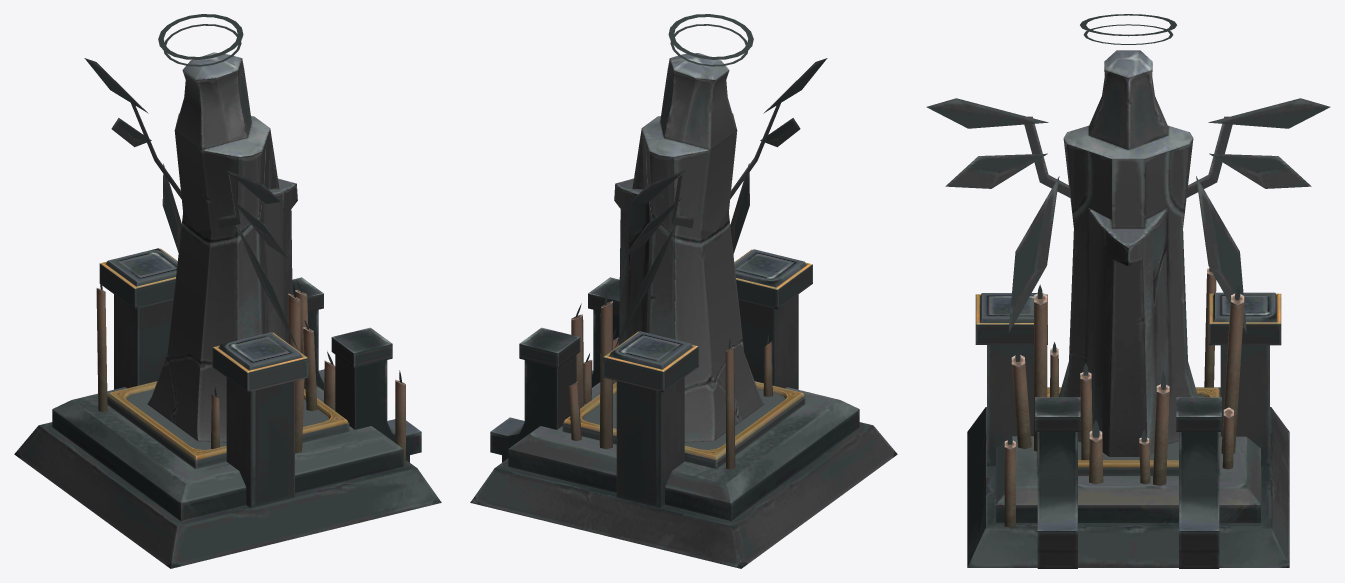
Rendered from S_church_statue.fbx.
3 renders of one model, left to right at view 1: azimuth 30°, elevation 25°; view 2: azimuth 150°, elevation 25°; view 3: azimuth 270°, elevation 25°, orthographic. The views are drawn at different scales.
Visible parts, largest first — view 1: S_church_statue; view 2: S_church_statue; view 3: S_church_statue.
Boxes of the visible parts, x1,y1,x2,y2 form: S_church_statue: (14,14,441,568); S_church_statue: (470,14,897,568); S_church_statue: (926,14,1330,568).
Size of the model in its own units: 1.05 by 1.6 by 1.26.
Materials: 1 (1 with a texture image).
